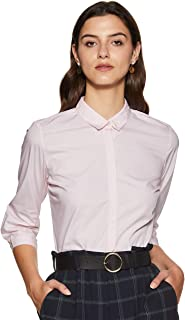shirt: (1, 97, 180, 251)
